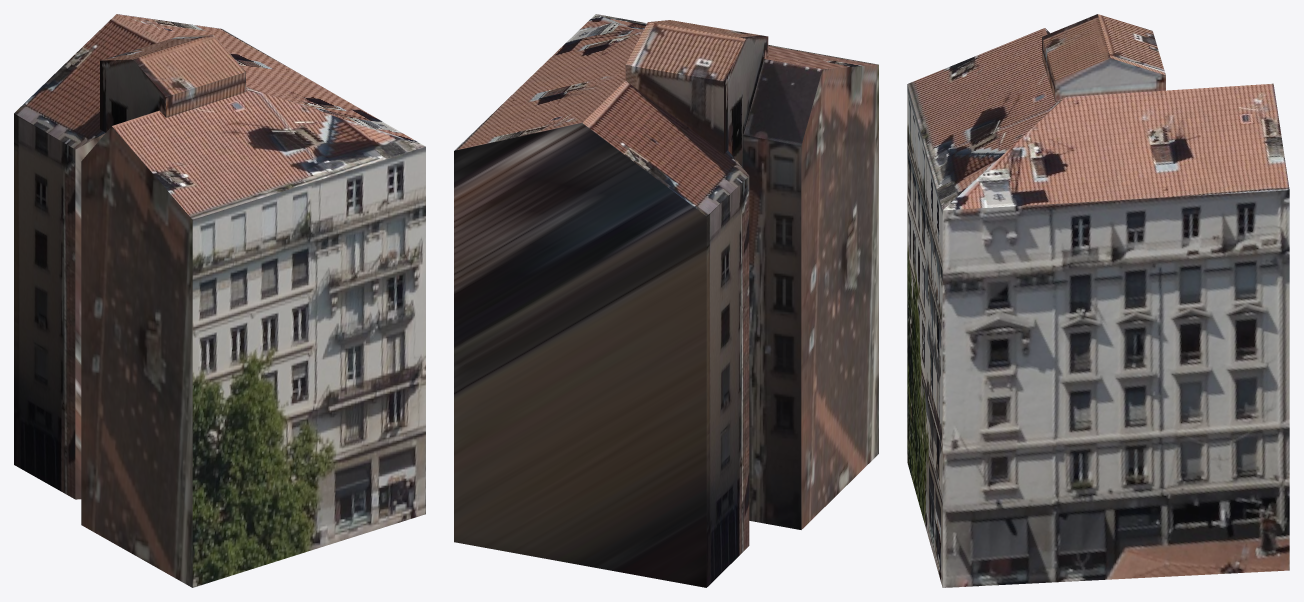
3 views of the same model, side by side, from view 1: azimuth 30°, elevation 25°; view 2: azimuth 150°, elevation 25°; view 3: azimuth 270°, elevation 25° (orthographic). The views are drawn at different scales.
Visible parts, largest first — view 1: Z_UP; view 2: Z_UP; view 3: Z_UP.
Part boxes in pixels (bbox=[...]): Z_UP: bbox=[14, 14, 425, 587]; Z_UP: bbox=[454, 14, 878, 587]; Z_UP: bbox=[907, 14, 1289, 587].
Size of the model in its own units: 18.32 by 29.39 by 21.9.
Materials: 2 (1 with a texture image).
